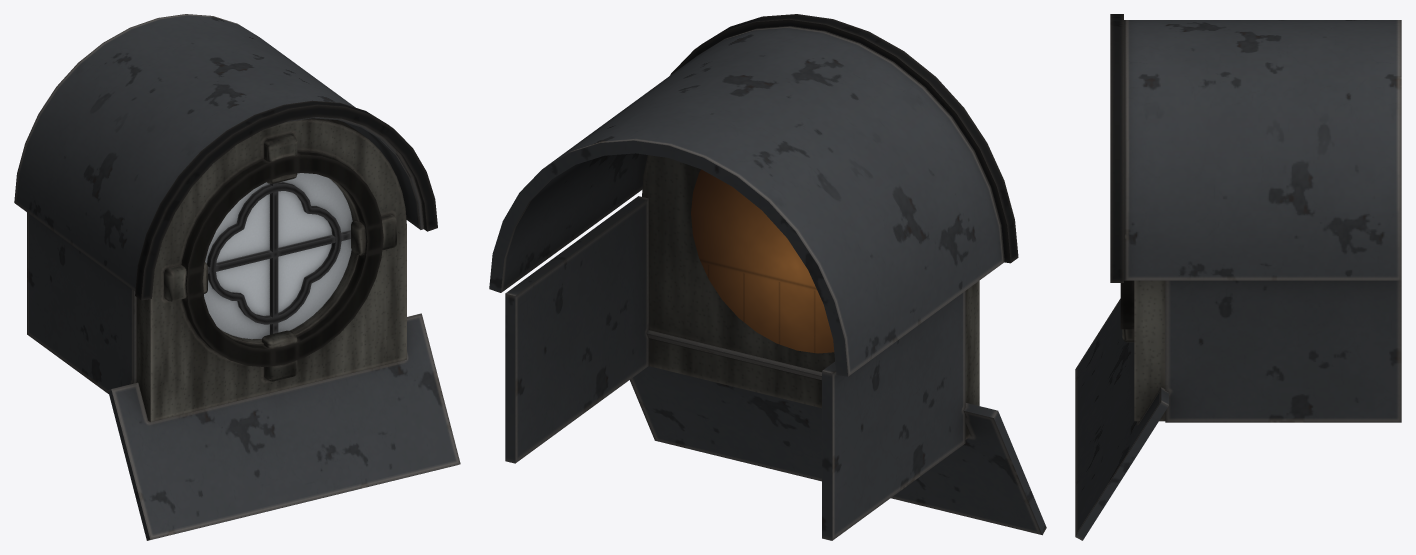
File: OxeyeDormer.fbx
3 views of the same model, side by side, from view 1: azimuth 30°, elevation 25°; view 2: azimuth 150°, elevation 25°; view 3: azimuth 270°, elevation 25° (orthographic). The views are drawn at different scales.
Parts seen in each view (by area): view 1: OxeyeDormer_Main, OxeyeDormer_Glass; view 2: OxeyeDormer_Main, OxeyeDormer_Room; view 3: OxeyeDormer_Main.
Part boxes in pixels (box(x1,y1,x2,y2)): OxeyeDormer_Main: box(14, 14, 460, 540); OxeyeDormer_Glass: box(204, 173, 352, 339); OxeyeDormer_Main: box(489, 14, 1046, 540); OxeyeDormer_Room: box(691, 169, 834, 353); OxeyeDormer_Main: box(1075, 14, 1401, 540).
Size of the model in its own units: 230 by 272 by 189.
